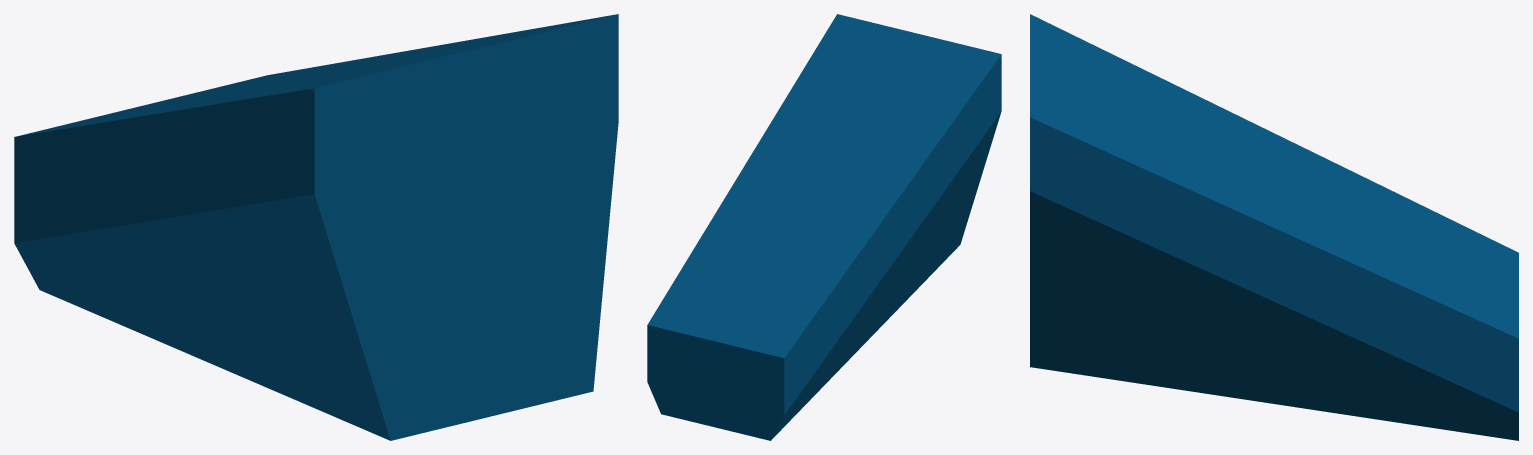
Rendered from guy_ArmTop.obj.
3 views of the same model, side by side, from view 1: azimuth 30°, elevation 25°; view 2: azimuth 150°, elevation 25°; view 3: azimuth 270°, elevation 25° (orthographic). The views are drawn at different scales.
Parts seen in each view (by area): view 1: arm_top; view 2: arm_top; view 3: arm_top.
Boxes of the visible parts, bbox=[...] form: arm_top: bbox=[14, 14, 618, 440]; arm_top: bbox=[647, 14, 1001, 440]; arm_top: bbox=[1030, 14, 1518, 440].
Size of the model in its own units: 0.1875 by 0.2812 by 0.375.
1 material, 1 textured.
